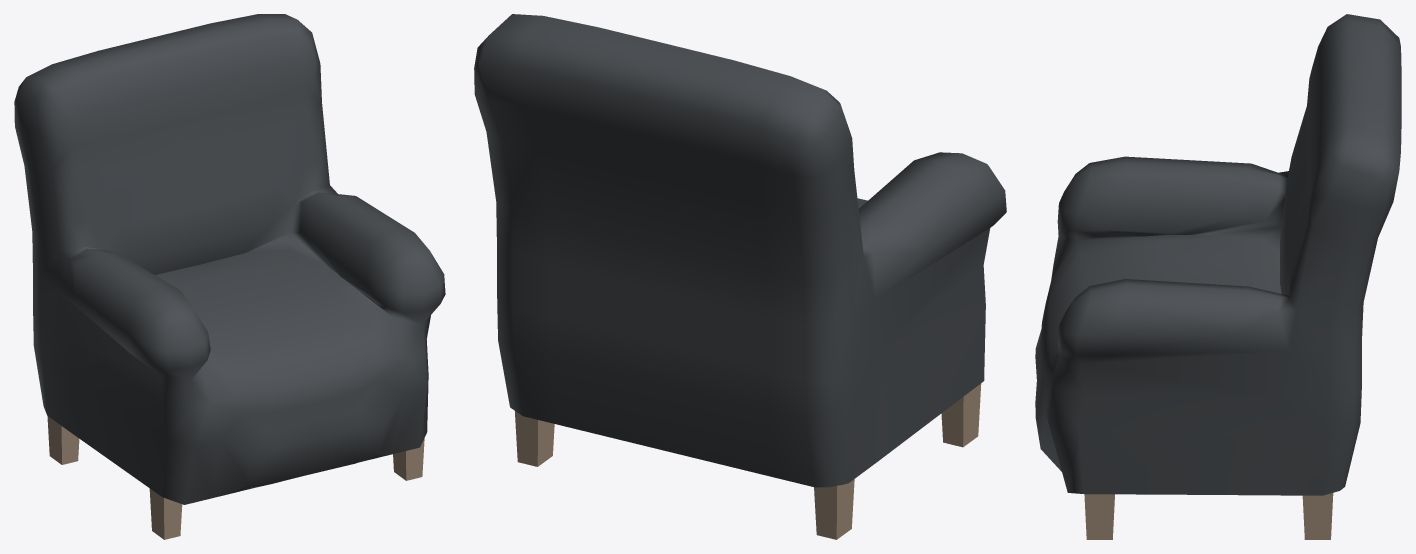
File: SM_Prop_Couch_06.obj
The picture shows the model from 3 angles, left to right: view 1: azimuth 30°, elevation 25°; view 2: azimuth 150°, elevation 25°; view 3: azimuth 270°, elevation 25°; orthographic projection. The views are drawn at different scales.
Parts seen in each view (by area): view 1: SM_Prop_Couch_06_Mat_SwatchOverlay_PolygonTown_01_Inst; view 2: SM_Prop_Couch_06_Mat_SwatchOverlay_PolygonTown_01_Inst; view 3: SM_Prop_Couch_06_Mat_SwatchOverlay_PolygonTown_01_Inst.
Boxes of the visible parts, left/top/right/bottom form: SM_Prop_Couch_06_Mat_SwatchOverlay_PolygonTown_01_Inst: left=14, top=14, right=445, bottom=539; SM_Prop_Couch_06_Mat_SwatchOverlay_PolygonTown_01_Inst: left=474, top=14, right=1006, bottom=539; SM_Prop_Couch_06_Mat_SwatchOverlay_PolygonTown_01_Inst: left=1035, top=14, right=1401, bottom=539.
Size of the model in its own units: 1.05 by 1.23 by 1.02.
Materials: 1 (1 with a texture image).
